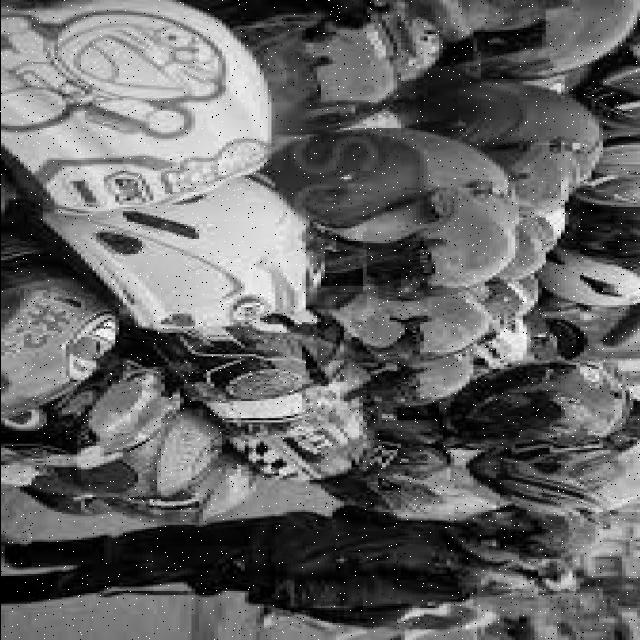Helmet: (0, 0, 270, 213), (42, 170, 316, 343), (421, 357, 627, 452), (473, 429, 640, 516)
